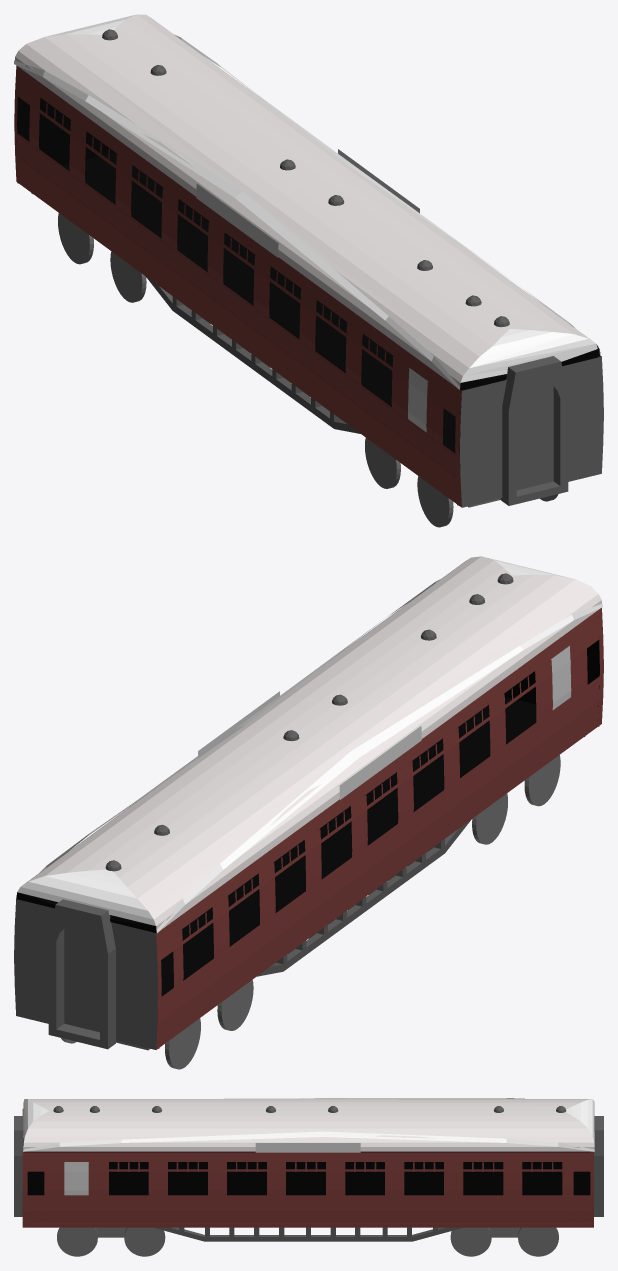
The model's file is lner-gresley-express-coach-br-maroon.dae.
3 views of the same model, one above another, from view 1: azimuth 30°, elevation 25°; view 2: azimuth 150°, elevation 25°; view 3: azimuth 270°, elevation 25° (orthographic). The views are drawn at different scales.
Visible parts, largest first — view 1: Suzanne_001, Plane_358, Plane_070, Plane_012, Tube_002, Suzanne_004, Plane_359, Plane_332, Plane_357, Plane_026, Plane_009, Plane_348 (+16 smaller); view 2: Suzanne_001, Plane_358, Plane_001, Plane_012, Tube_004, Suzanne_004, Plane_359, Plane_332, Plane_357, Plane_009, Plane_348, Plane_349 (+16 smaller); view 3: Suzanne_001, Plane_007, Plane_019, Plane_158, Plane_006, Suzanne_003, Plane_005, Plane_079, Plane_077, Plane_078, Plane_103, Cylinder_001 (+25 smaller).
Part boxes in pixels (box(x1,y1,x2,y2)): Suzanne_001: box(15, 14, 599, 389); Plane_358: box(14, 138, 461, 507); Plane_070: box(460, 356, 603, 507); Plane_012: box(62, 152, 461, 498); Tube_002: box(500, 356, 568, 505); Suzanne_004: box(14, 60, 459, 389); Plane_359: box(15, 72, 461, 404); Plane_332: box(34, 79, 440, 381); Plane_357: box(14, 131, 459, 463); Plane_026: box(16, 72, 114, 176); Plane_009: box(196, 184, 278, 257); Plane_348: box(15, 132, 456, 456); Suzanne_001: box(16, 556, 601, 933); Plane_358: box(156, 681, 603, 1049); Plane_001: box(14, 899, 158, 1049); Plane_012: box(161, 697, 536, 996); Tube_004: box(48, 899, 115, 1049); Suzanne_004: box(157, 603, 602, 932); Plane_359: box(156, 614, 602, 947); Plane_332: box(174, 623, 580, 926); Plane_357: box(157, 673, 603, 1006); Plane_009: box(339, 726, 421, 799); Plane_348: box(160, 676, 601, 1000); Plane_349: box(159, 698, 599, 1021); Suzanne_001: box(23, 1099, 594, 1151); Plane_007: box(22, 1200, 593, 1227); Plane_019: box(24, 1151, 590, 1195); Plane_158: box(50, 1152, 570, 1157); Plane_006: box(22, 1157, 593, 1161); Suzanne_003: box(23, 1131, 594, 1151); Plane_005: box(22, 1195, 593, 1199); Plane_079: box(26, 1195, 591, 1196); Plane_077: box(27, 1209, 590, 1210); Plane_078: box(27, 1223, 590, 1224); Plane_103: box(255, 1143, 360, 1152); Cylinder_001: box(57, 1227, 97, 1256).
Size of the model in its own units: 2.08 by 11.39 by 2.82.
